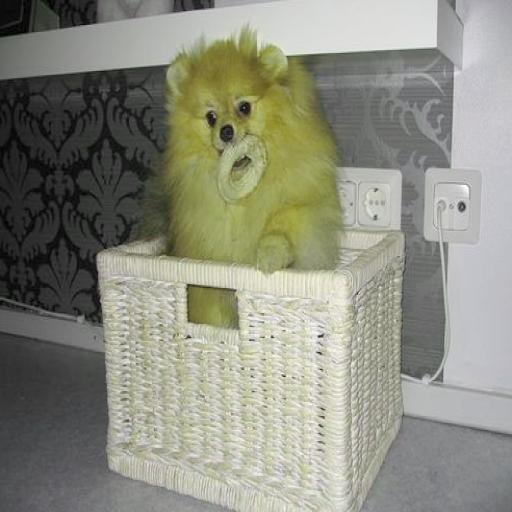dog_face: (168, 47, 290, 163)
